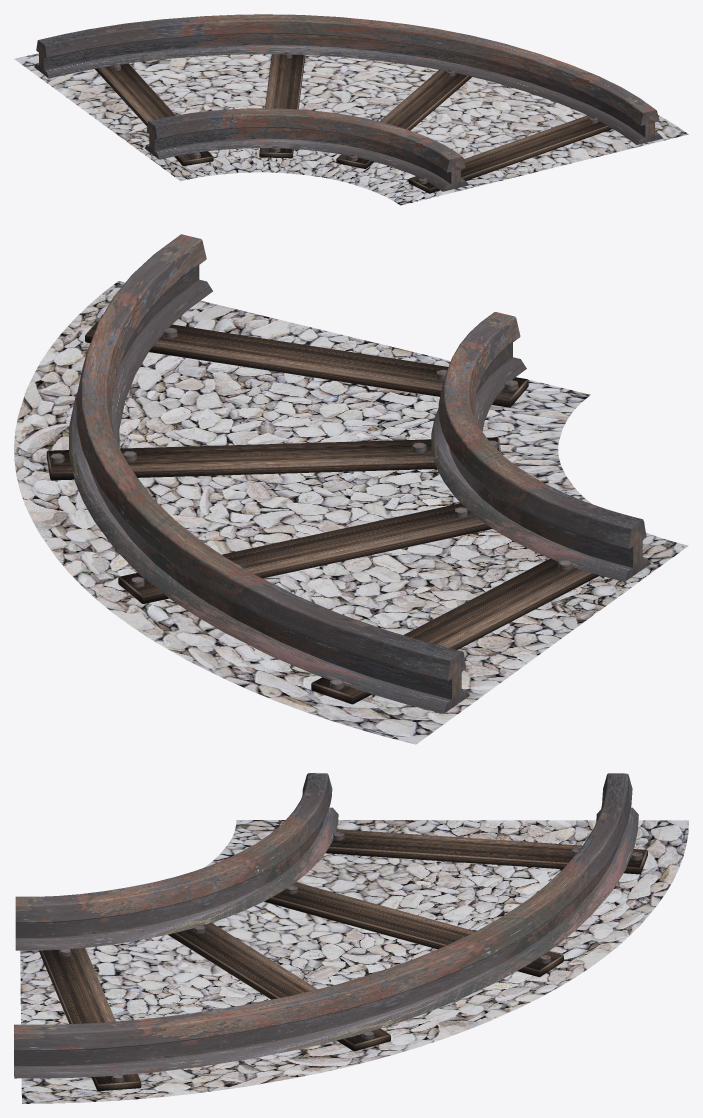
File: rail2.obj
3 renders of one model, top to bottom at view 1: azimuth 30°, elevation 25°; view 2: azimuth 150°, elevation 25°; view 3: azimuth 270°, elevation 25°, orthographic. The views are drawn at different scales.
Visible parts, largest first — view 1: rayC.002, taslarC.002; view 2: taslarC.002, rayC.002; view 3: rayC.002, taslarC.002.
Part boxes in pixels (x1,y1,x2,y2): rayC.002: (34,14,663,193); taslarC.002: (14,53,688,205); taslarC.002: (14,281,688,744); rayC.002: (46,234,650,713); rayC.002: (14,773,647,1091); taslarC.002: (20,820,688,1103).
Size of the model in its own units: 445 by 35 by 447.
